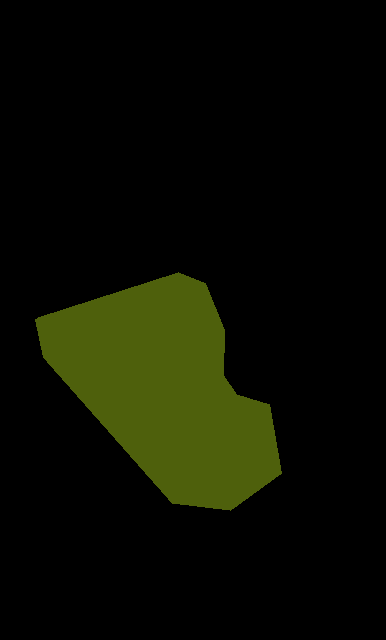Train: (35, 272, 281, 510)
